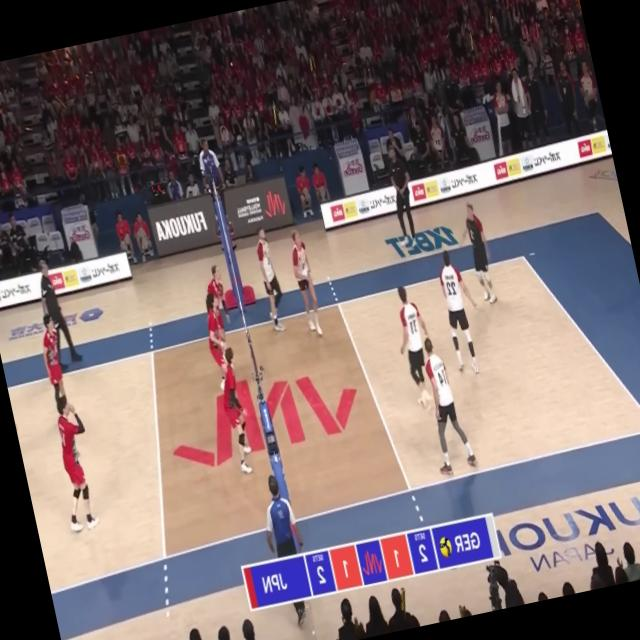referee: (255, 472, 320, 630)
team_one: (414, 334, 478, 476), (386, 282, 442, 407), (434, 253, 484, 377), (454, 200, 498, 308), (248, 225, 290, 332), (286, 231, 326, 341)
team_two: (42, 389, 103, 531), (214, 344, 262, 478), (36, 312, 80, 436), (198, 290, 242, 406), (202, 263, 235, 340)
